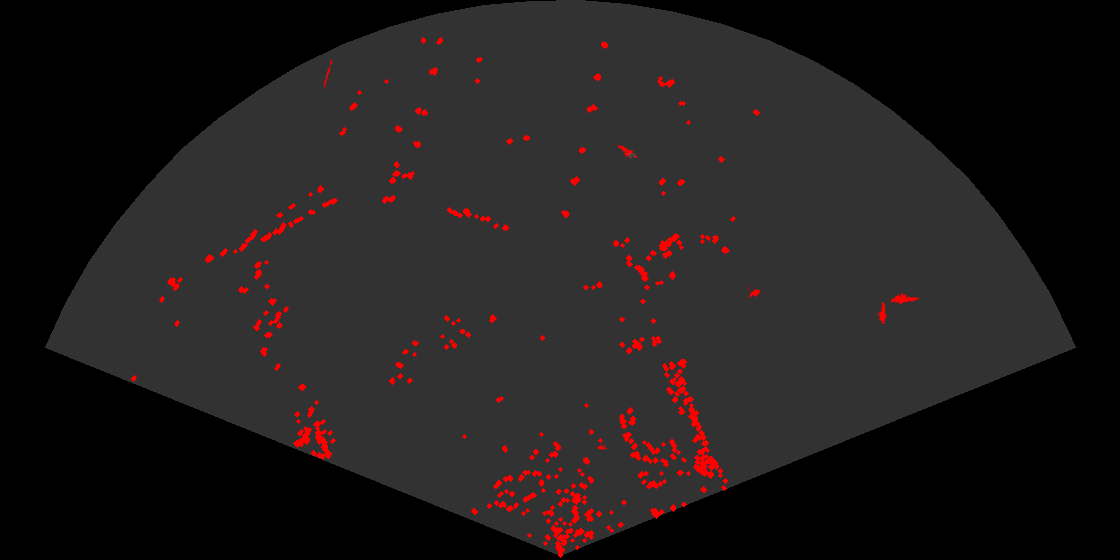AUV: (747, 285, 762, 299), (595, 444, 608, 452)
chain: (322, 58, 334, 89)
frogman: (891, 291, 920, 306), (615, 144, 637, 160), (876, 301, 888, 324)
